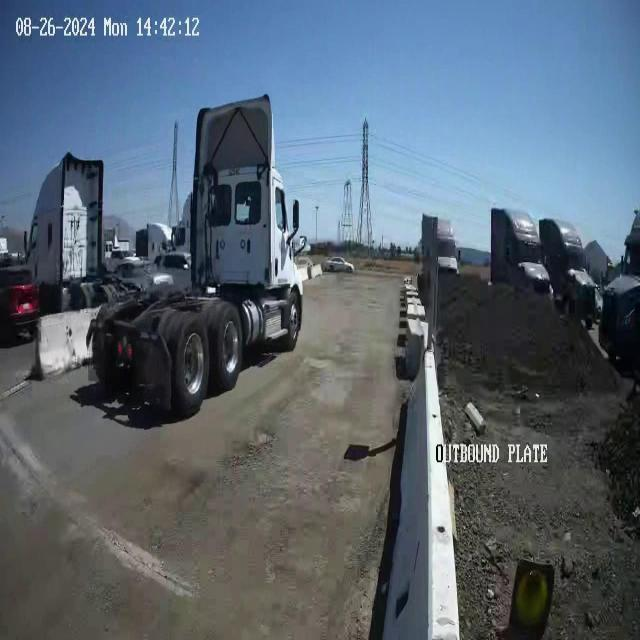BOBTAIL: (86, 92, 306, 419)
